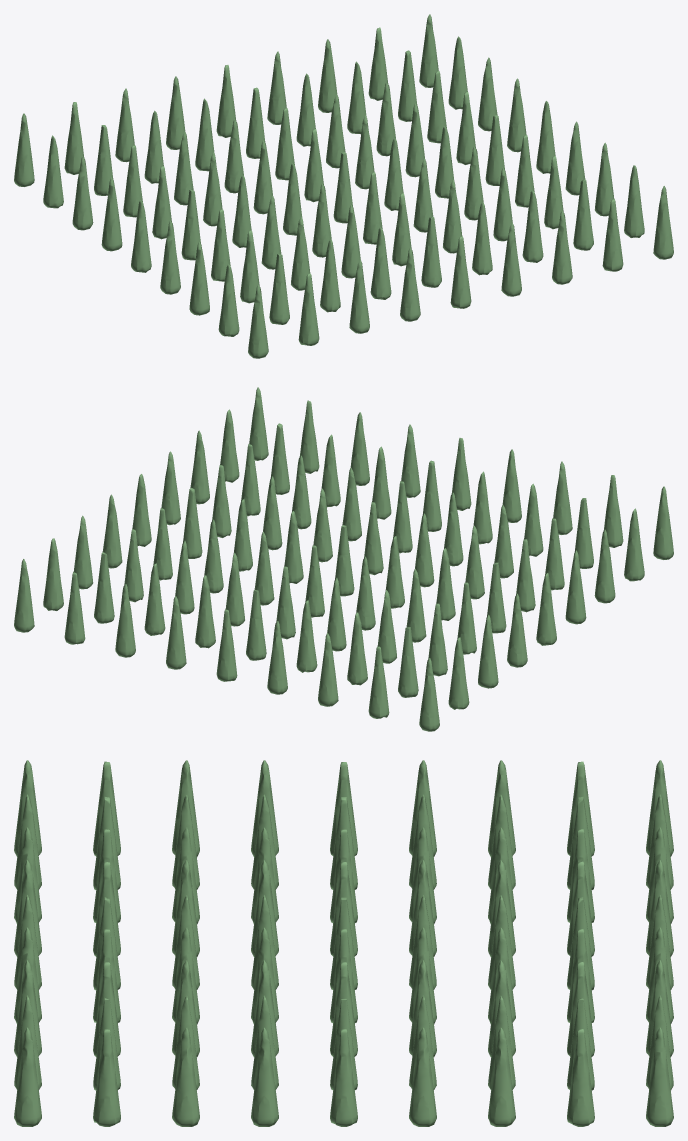
Rendered from grass_patch.glb.
3 views of the same model, one above another, from view 1: azimuth 30°, elevation 25°; view 2: azimuth 150°, elevation 25°; view 3: azimuth 270°, elevation 25° (orthographic). The views are drawn at different scales.
Visible parts, largest first — view 1: grass_patch; view 2: grass_patch; view 3: grass_patch.
Part boxes in pixels (bbox=[...]): grass_patch: bbox=[14, 14, 673, 358]; grass_patch: bbox=[14, 387, 673, 731]; grass_patch: bbox=[14, 760, 673, 1126].
Size of the model in its own units: 2.34 by 0.3715 by 2.34.
